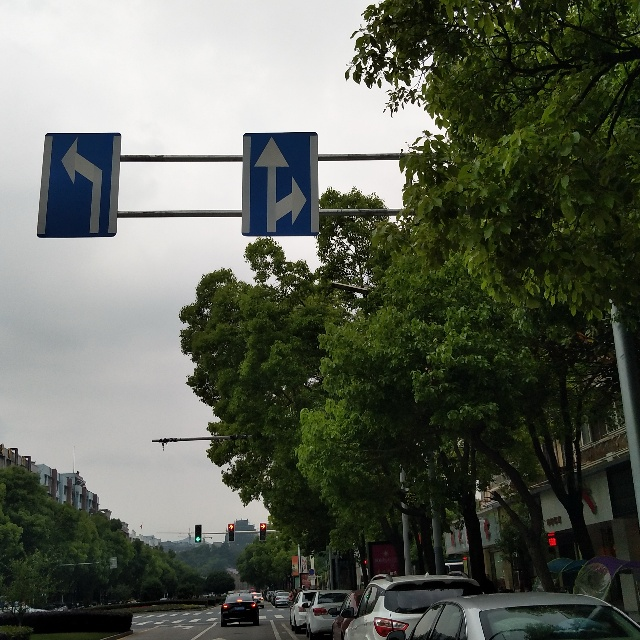left: (38, 132, 121, 239)
